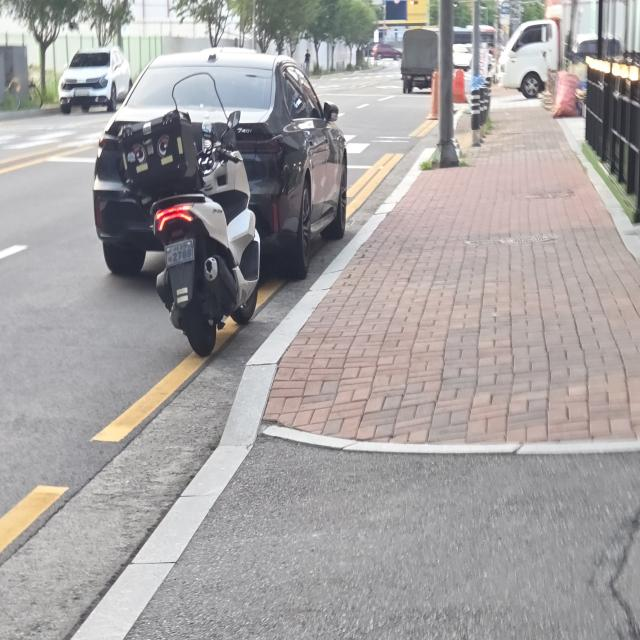car: (91, 31, 368, 286)
motorcycle: (128, 58, 273, 384)
